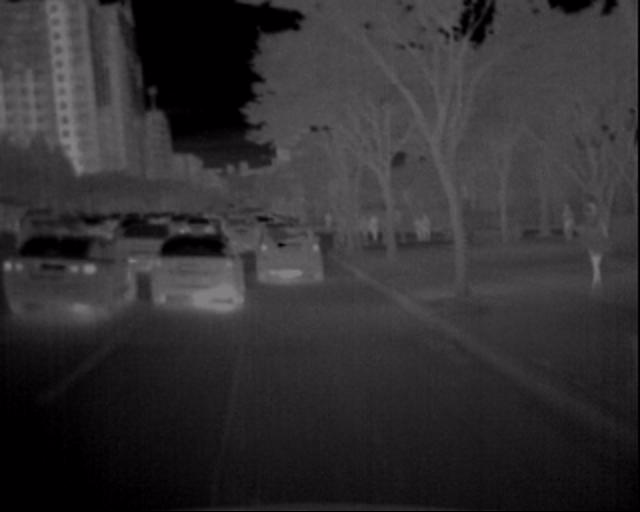person: (568, 200, 626, 297)
